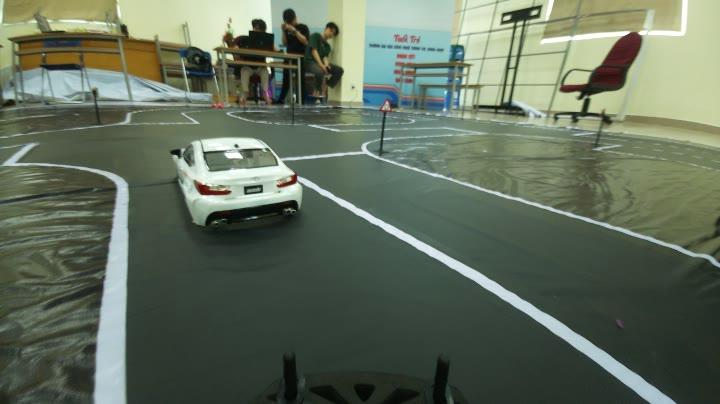car: (163, 134, 316, 234)
